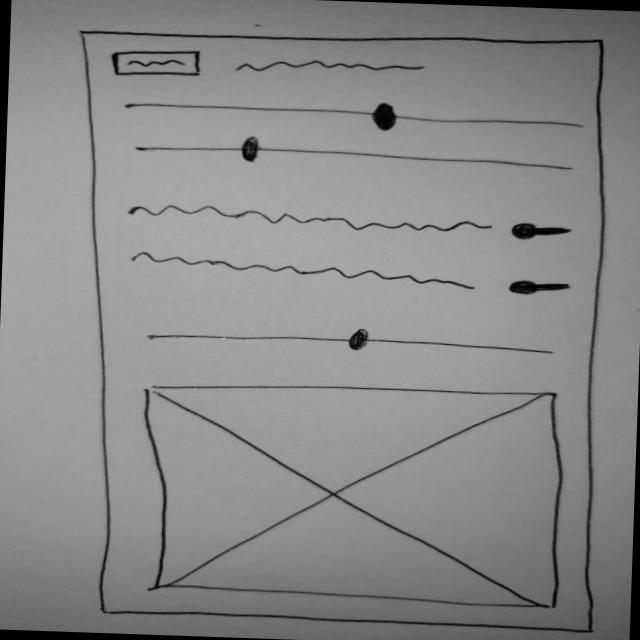button: (110, 48, 206, 81)
image: (133, 377, 572, 615)
input: (53, 22, 620, 639)
slider: (116, 92, 589, 139), (133, 131, 583, 175), (145, 322, 559, 362)
text: (130, 249, 489, 297), (130, 200, 499, 239), (234, 55, 432, 80)
toggle: (504, 277, 576, 301), (508, 220, 578, 244)
